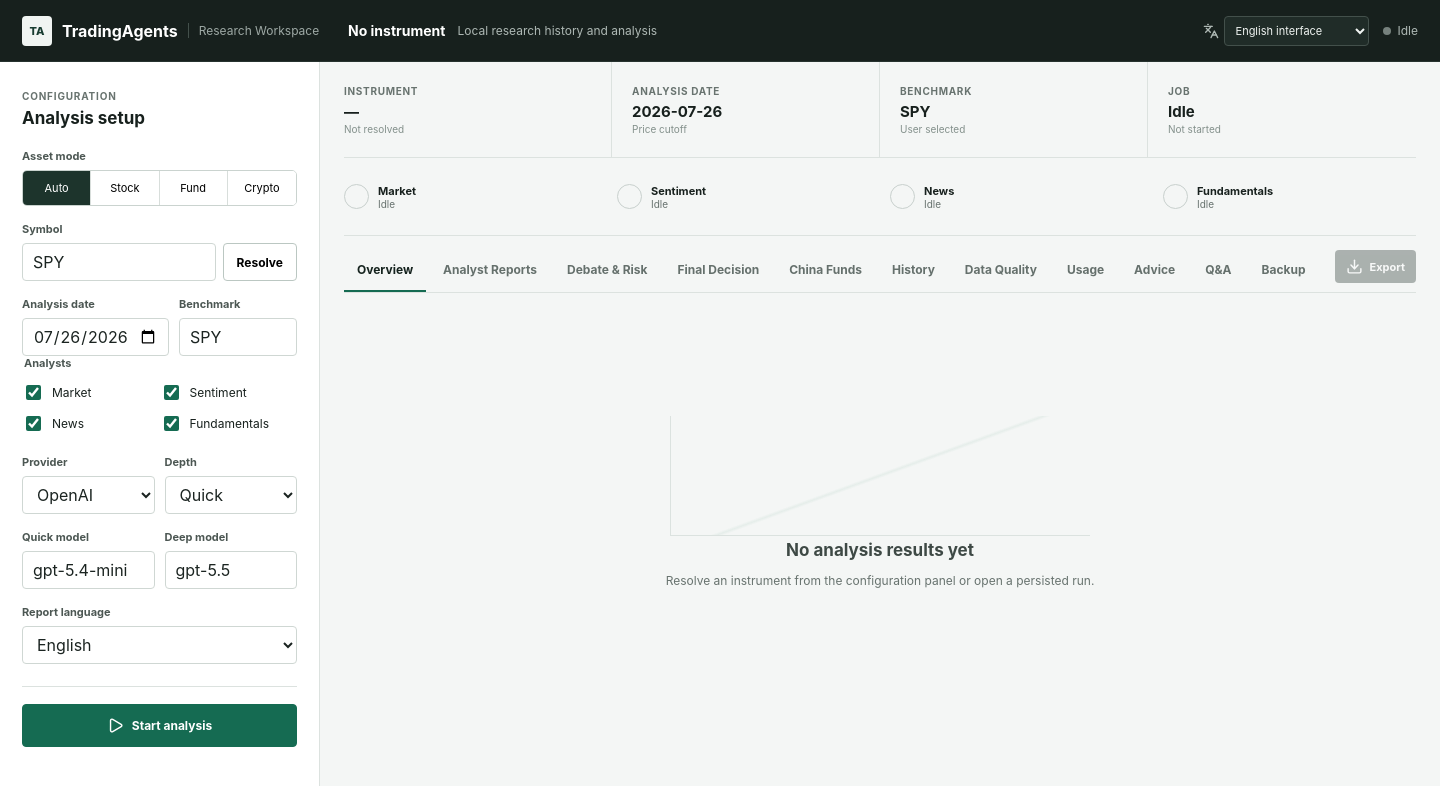
Test: exposes persistence, trust, usage, advice, chat, and recovery views
Click the button "History". click: click(913, 270)
box: [879,249,948,292]
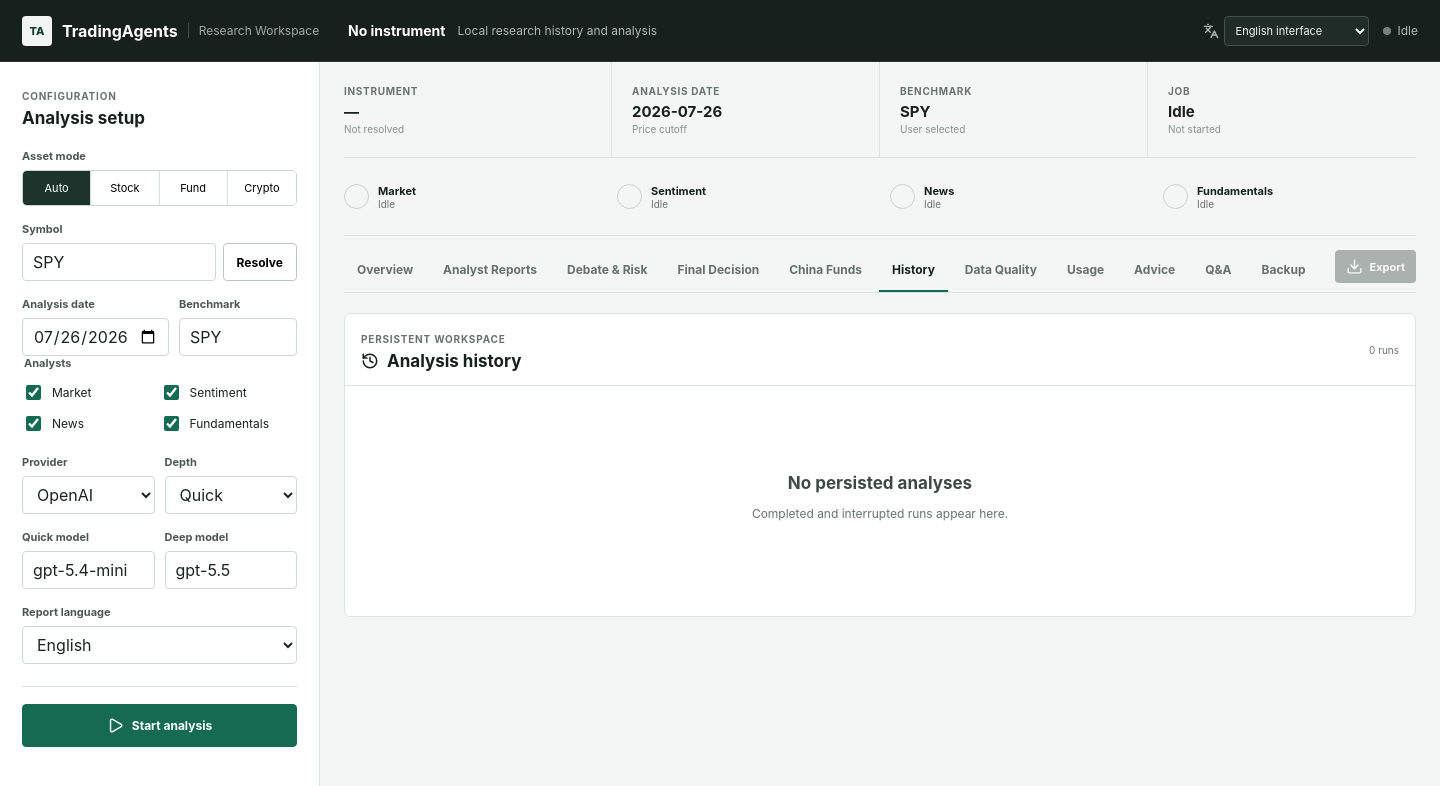
Check: the heading "Analysis history" is shown, box [361,350,522,372]
Click the button "Data Quality". click: click(1001, 270)
box: [952,249,1050,292]
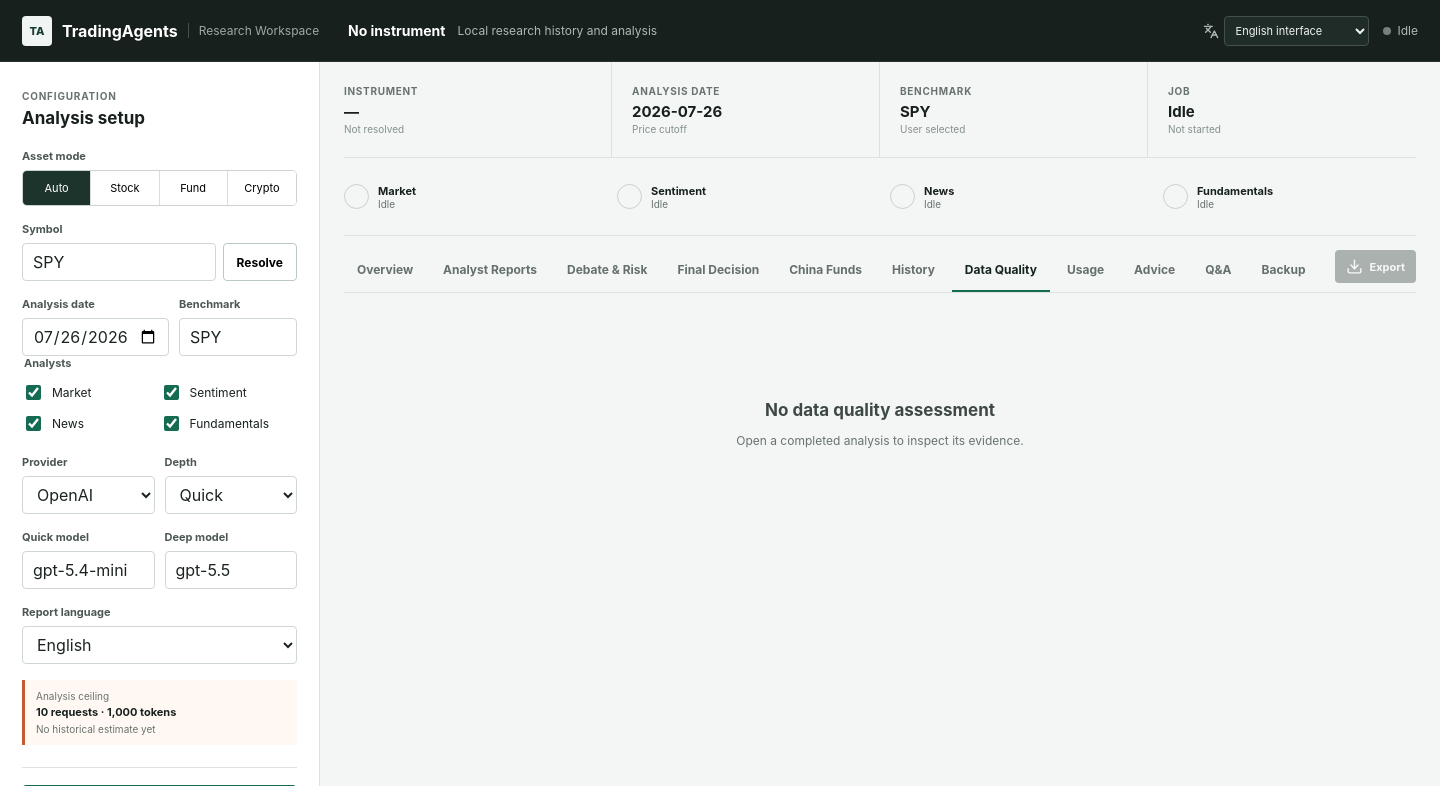
Check: the heading "No data quality assessment" is shown, box [765,399,995,421]
Click the button "Usage". click: click(1086, 270)
box: [1054,249,1117,292]
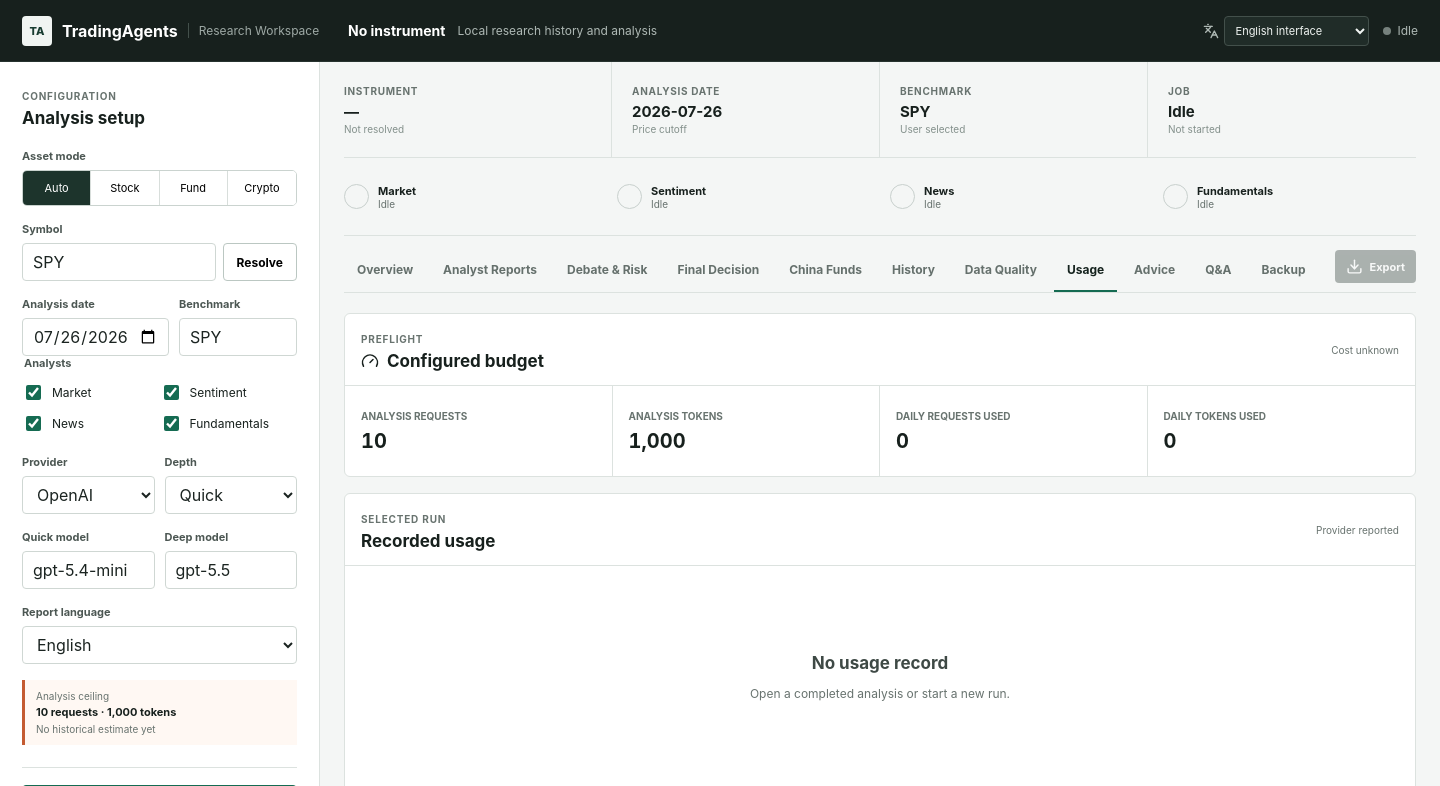
Check: the heading "Configured budget" is shown, box [361,350,544,372]
Click the button "Advice". click: click(1155, 270)
box: [1121,249,1188,292]
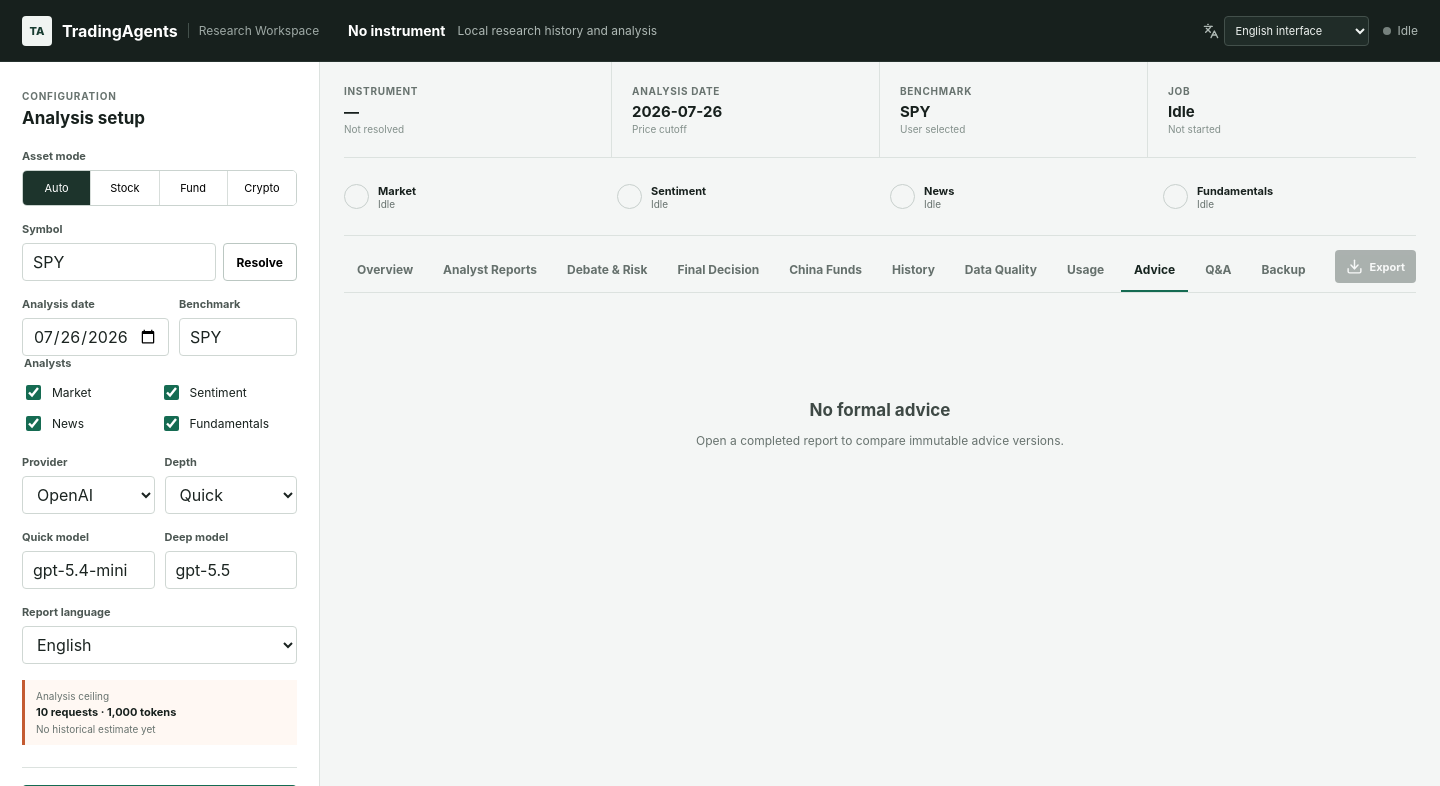
Check: the heading "No formal advice" is shown, box [810,399,950,421]
Click the button "Q&A". click: click(1218, 270)
box: [1192,249,1244,292]
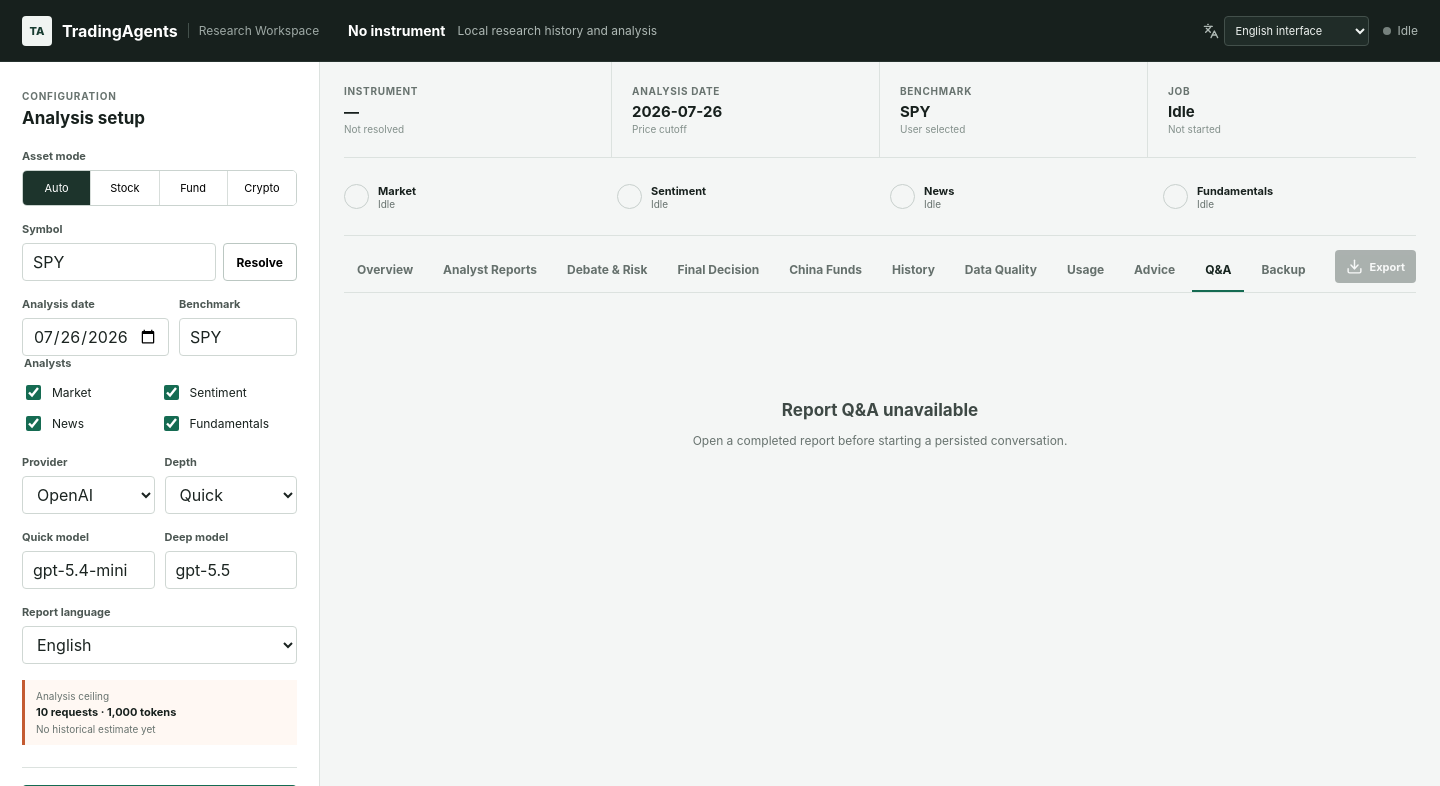
Check: the heading "Report Q&A unavailable" is shown, box [782,399,978,421]
Click the button "Backup". click: click(1284, 270)
box: [1248,249,1318,292]
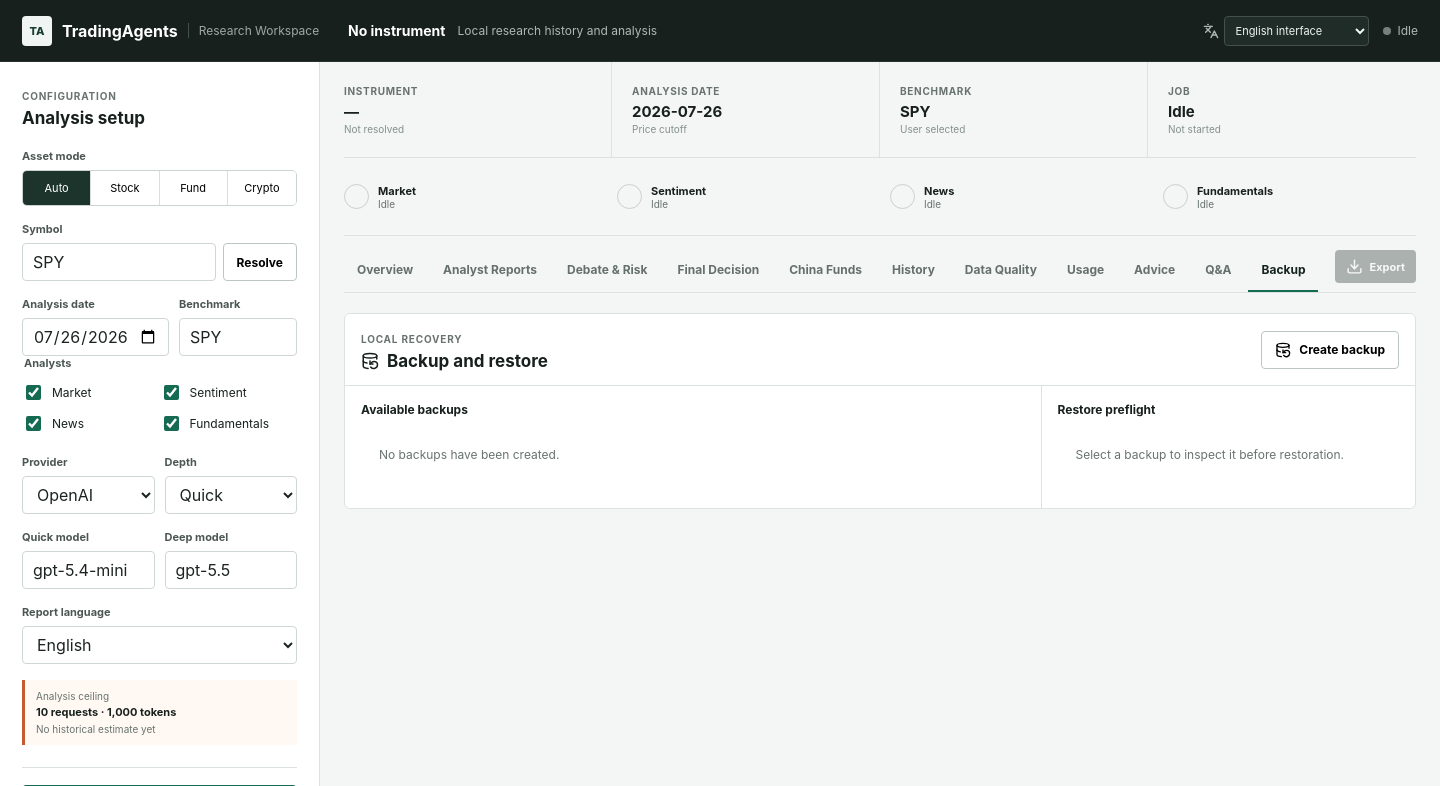
Check: the heading "Backup and restore" is shown, box [361,350,548,372]
